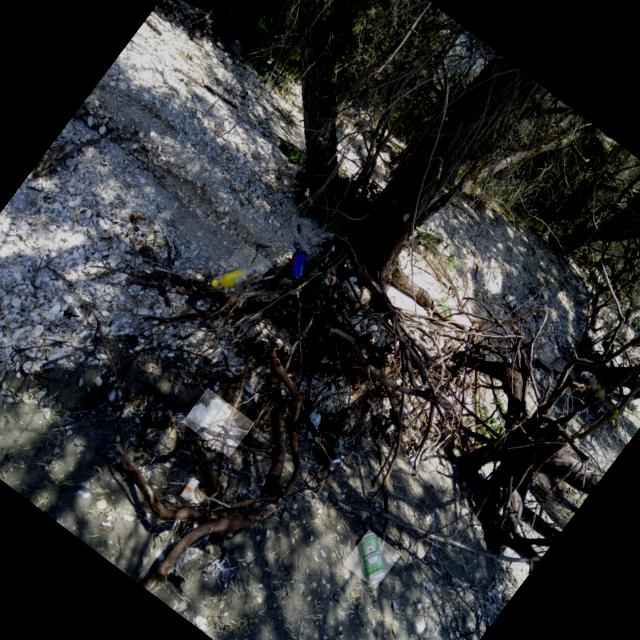Bottle cap: (211, 281, 215, 288)
Clear plastic bottle: (211, 259, 266, 288)
Drink can: (360, 533, 385, 584), (323, 435, 342, 473), (289, 250, 307, 282)
Other Carton: (180, 478, 197, 499)
Plastic film: (185, 399, 241, 454)
Single-use carrier bag: (298, 409, 320, 440)
